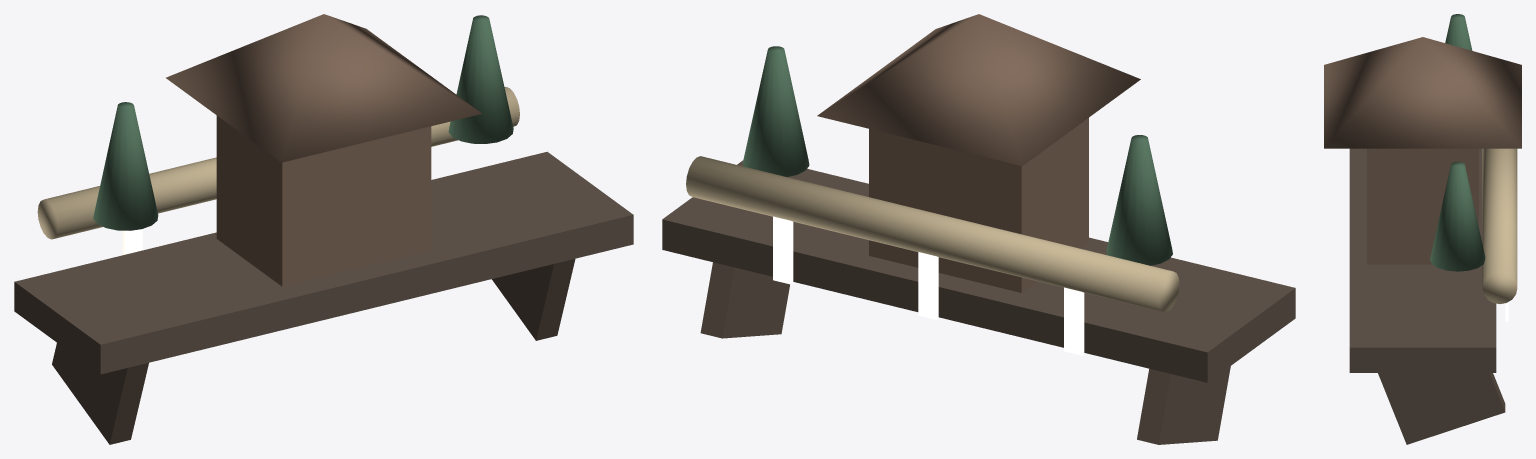
The model's file is prop_kamidana.glb.
3 renders of one model, left to right at view 1: azimuth 30°, elevation 25°; view 2: azimuth 150°, elevation 25°; view 3: azimuth 270°, elevation 25°, orthographic. The views are drawn at different scales.
Parts seen in each view (by area): view 1: kamidana; view 2: kamidana; view 3: kamidana.
Part boxes in pixels (x1,y1,x2,y2): kamidana: [14, 14, 633, 444]; kamidana: [662, 14, 1295, 444]; kamidana: [1324, 14, 1521, 444].
Size of the model in its own units: 1.5 by 0.9935 by 0.5657.
